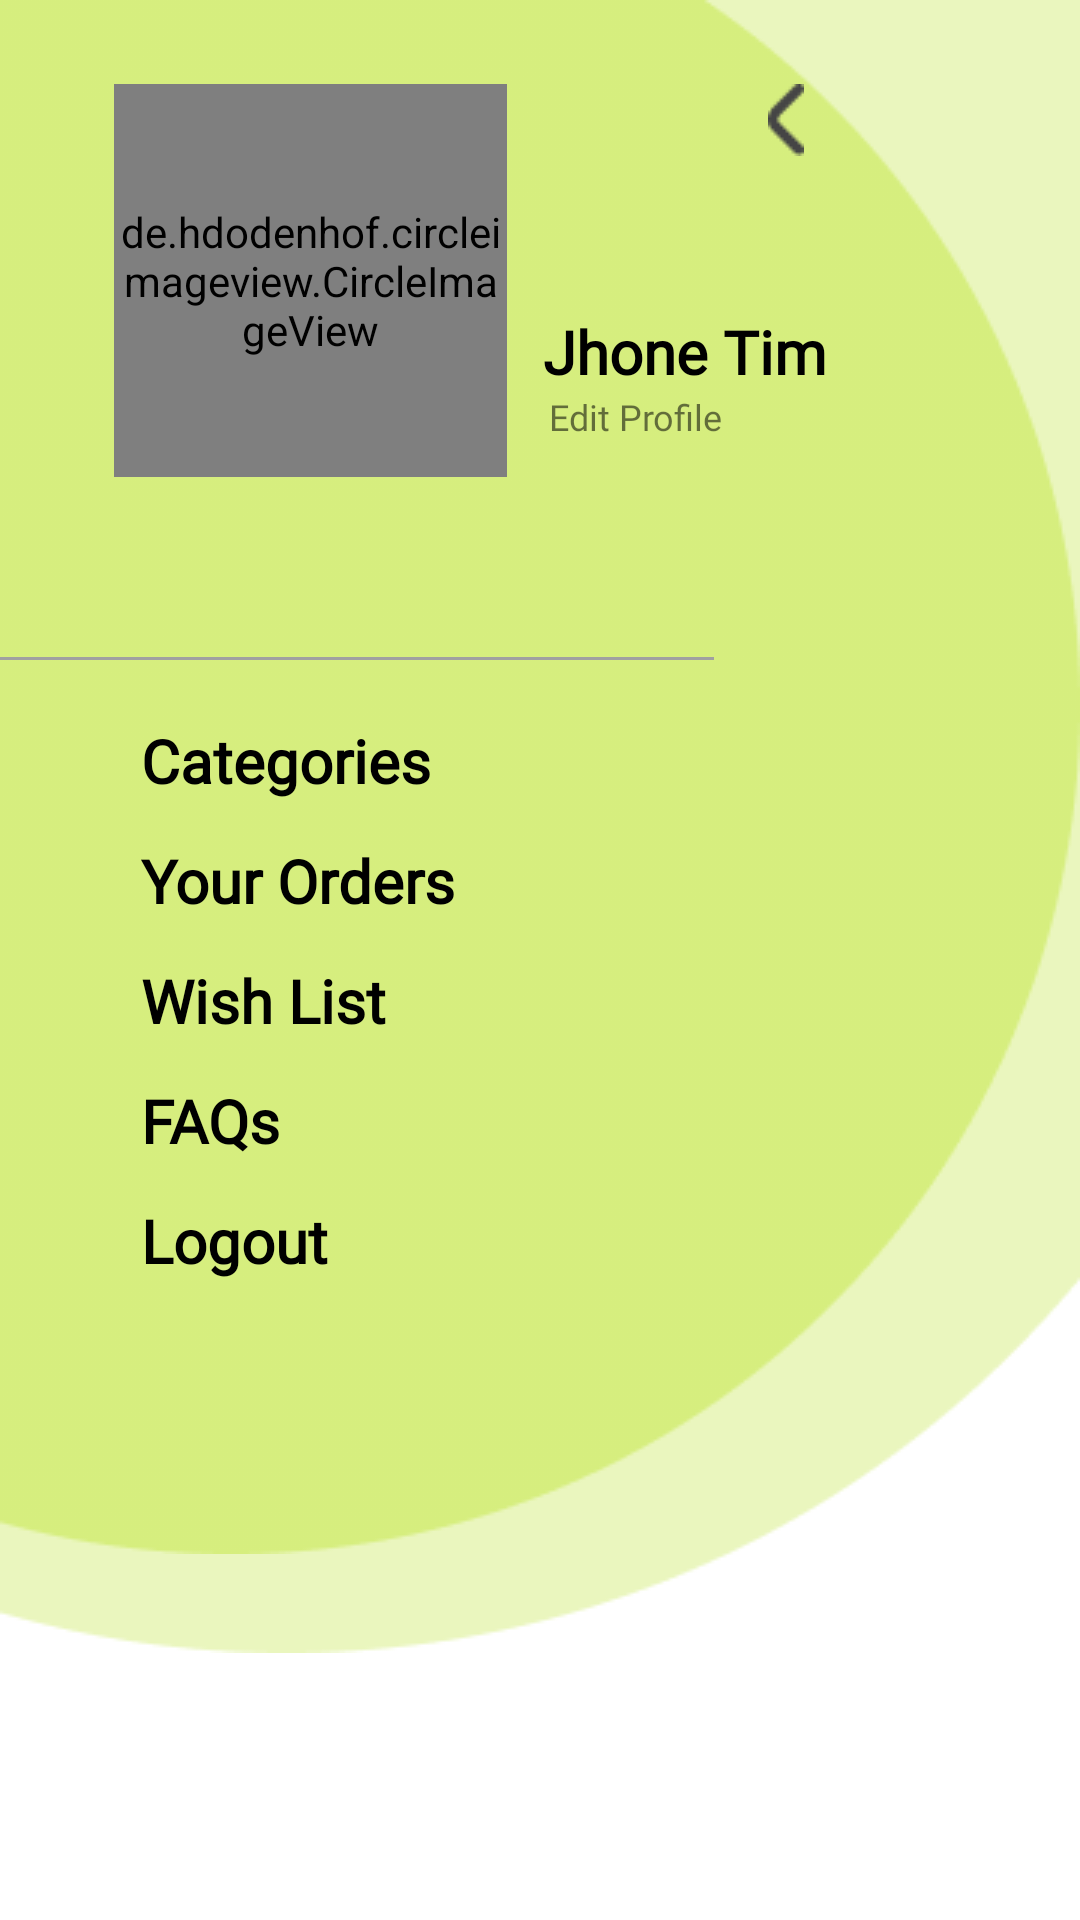

Point at icon controls on the screen. Image size 1080*1920, points as (x=x, y=y).
back: (x=786, y=120)
